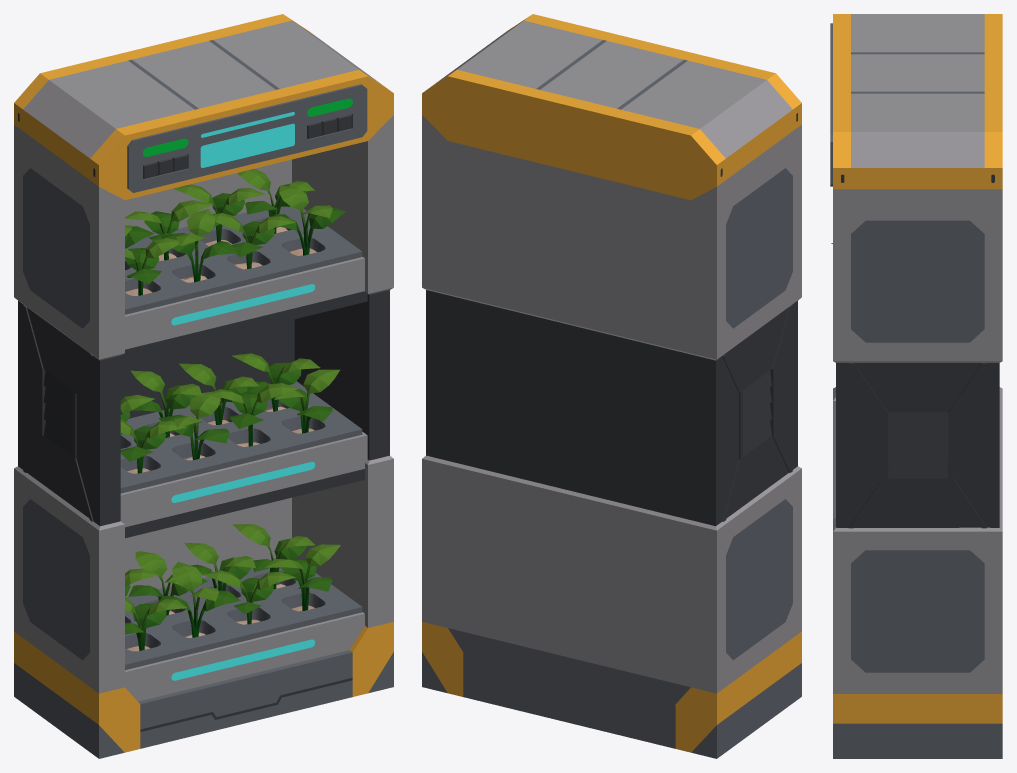
File: SM_Props_Agro_02.fbx
3 renders of one model, left to right at view 1: azimuth 30°, elevation 25°; view 2: azimuth 150°, elevation 25°; view 3: azimuth 270°, elevation 25°, orthographic.
Visible parts, largest first — view 1: SM_Props_Agro_02_LOD0; view 2: SM_Props_Agro_02_LOD0; view 3: SM_Props_Agro_02_LOD0.
Part boxes in pixels (left/top/right/bottom): SM_Props_Agro_02_LOD0: left=14, top=14, right=393, bottom=758; SM_Props_Agro_02_LOD0: left=422, top=14, right=801, bottom=758; SM_Props_Agro_02_LOD0: left=830, top=14, right=1002, bottom=758.
Size of the model in its own units: 100 by 200 by 50.79.
